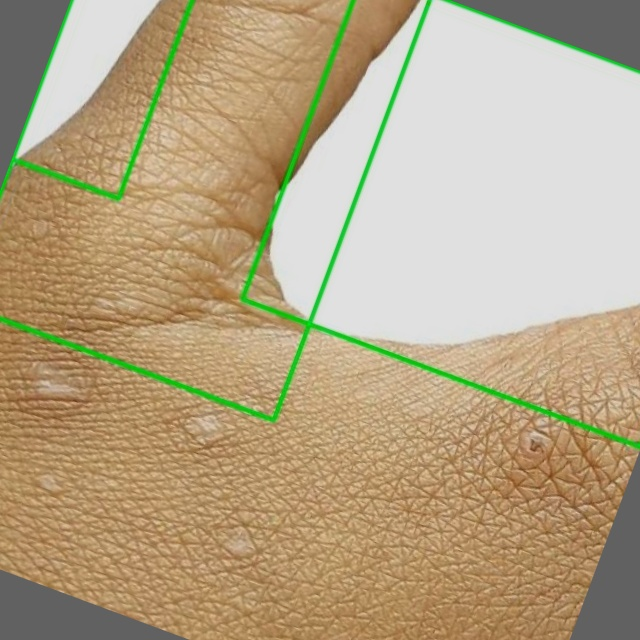Scabies: (0, 0, 429, 421), (242, 0, 639, 446), (12, 0, 192, 198)
